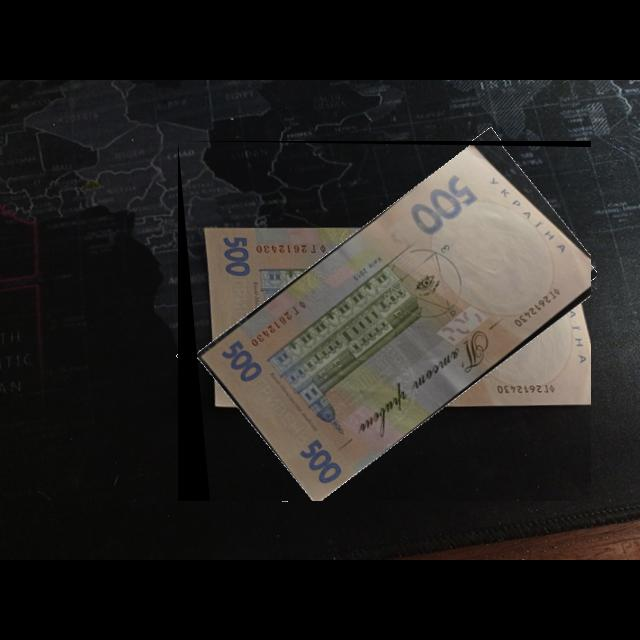100uah: (193, 145, 592, 502)
